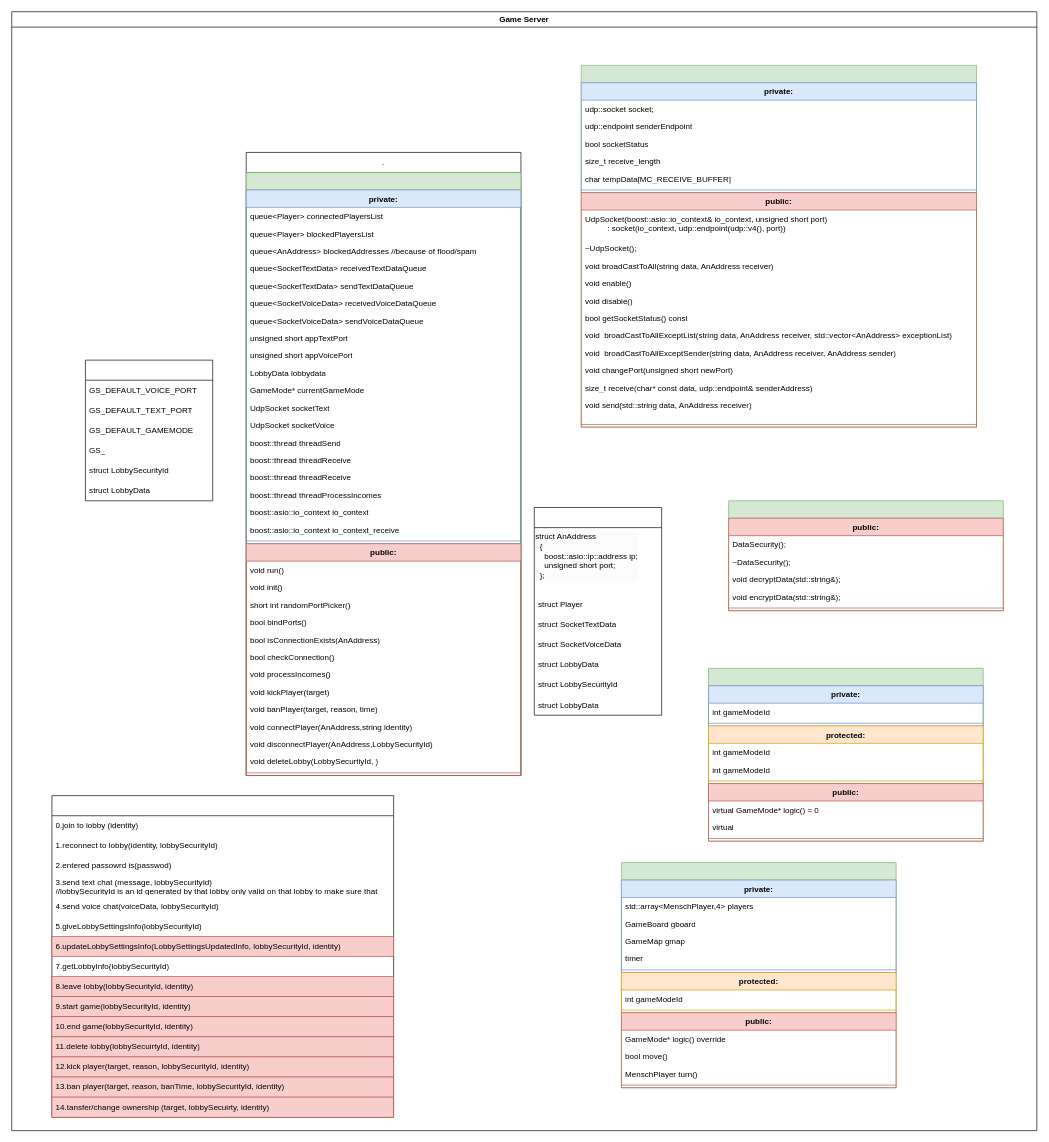
This 1049x1142 diagram has some shape labels left out. Here are the shapes that lost their labels. From the top down, the box of each, then its label:
(581, 65, 977, 427): class UdpSocket
(85, 359, 213, 501): config.h
(246, 172, 521, 776): class App
(728, 500, 1003, 611): class DataSecurity
(534, 507, 662, 715): dataType.h
(708, 668, 983, 841): class GameMode
(51, 795, 394, 1117): lobby-request-response-list.h
(621, 862, 896, 1088): class GameModeMensch : public GameMode
